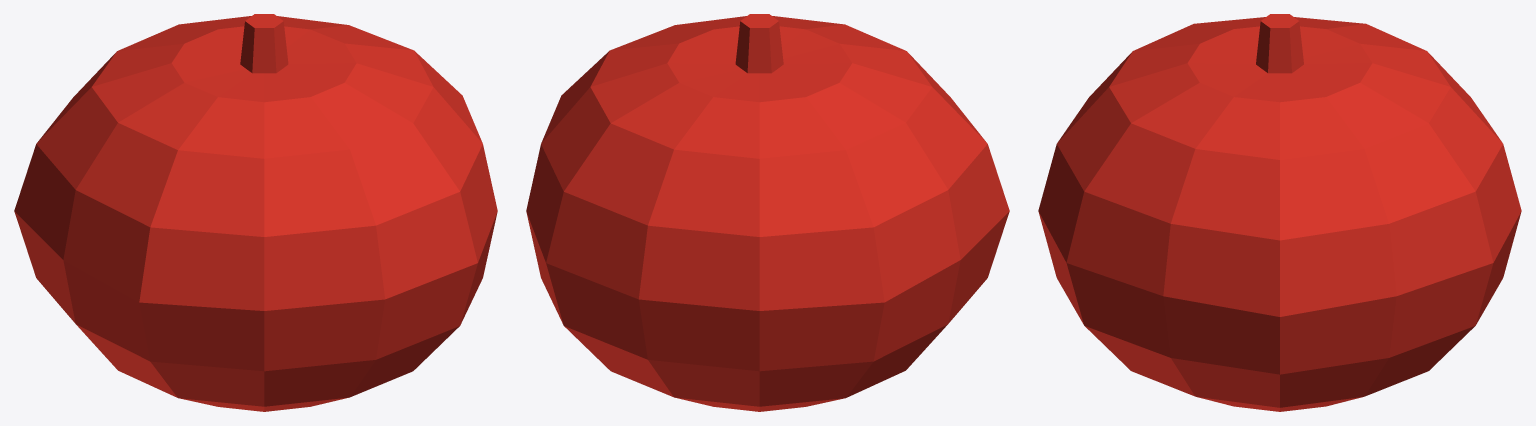
Rendered from tomato_whole.glb.
The picture shows the model from 3 angles, left to right: view 1: azimuth 30°, elevation 25°; view 2: azimuth 150°, elevation 25°; view 3: azimuth 270°, elevation 25°; orthographic projection.
Parts seen in each view (by area): view 1: tomato_whole_0; view 2: tomato_whole_0; view 3: tomato_whole_0.
Part boxes in pixels (x1,y1,x2,y2): tomato_whole_0: [14, 14, 497, 411]; tomato_whole_0: [526, 14, 1009, 411]; tomato_whole_0: [1038, 14, 1521, 411].
Size of the model in its own units: 0.3 by 0.25 by 0.3.
